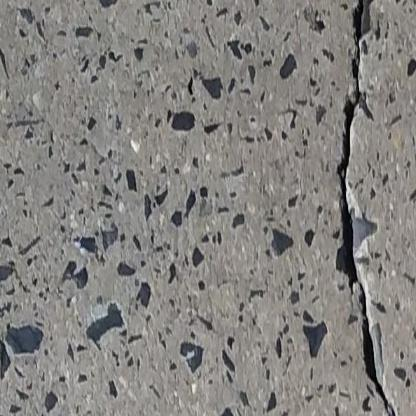Cracks: (333, 0, 404, 416)
